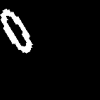chain: (1, 9, 32, 52)
